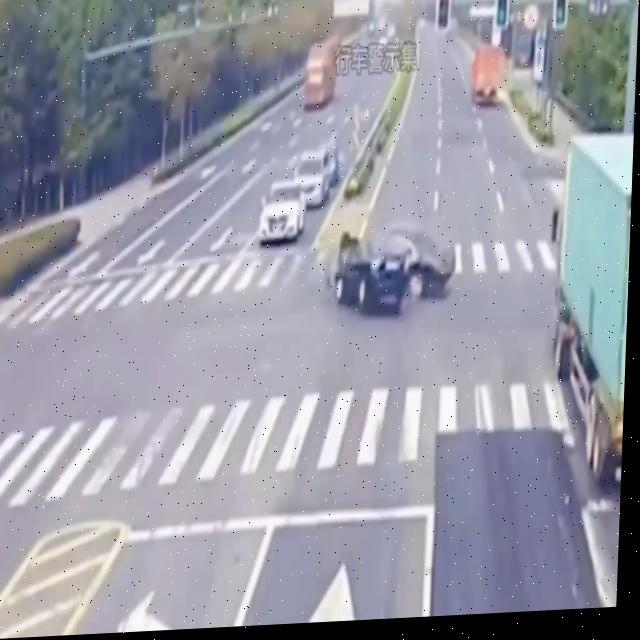multiple_accident: (300, 182, 473, 338)
normal: (242, 88, 332, 252)
